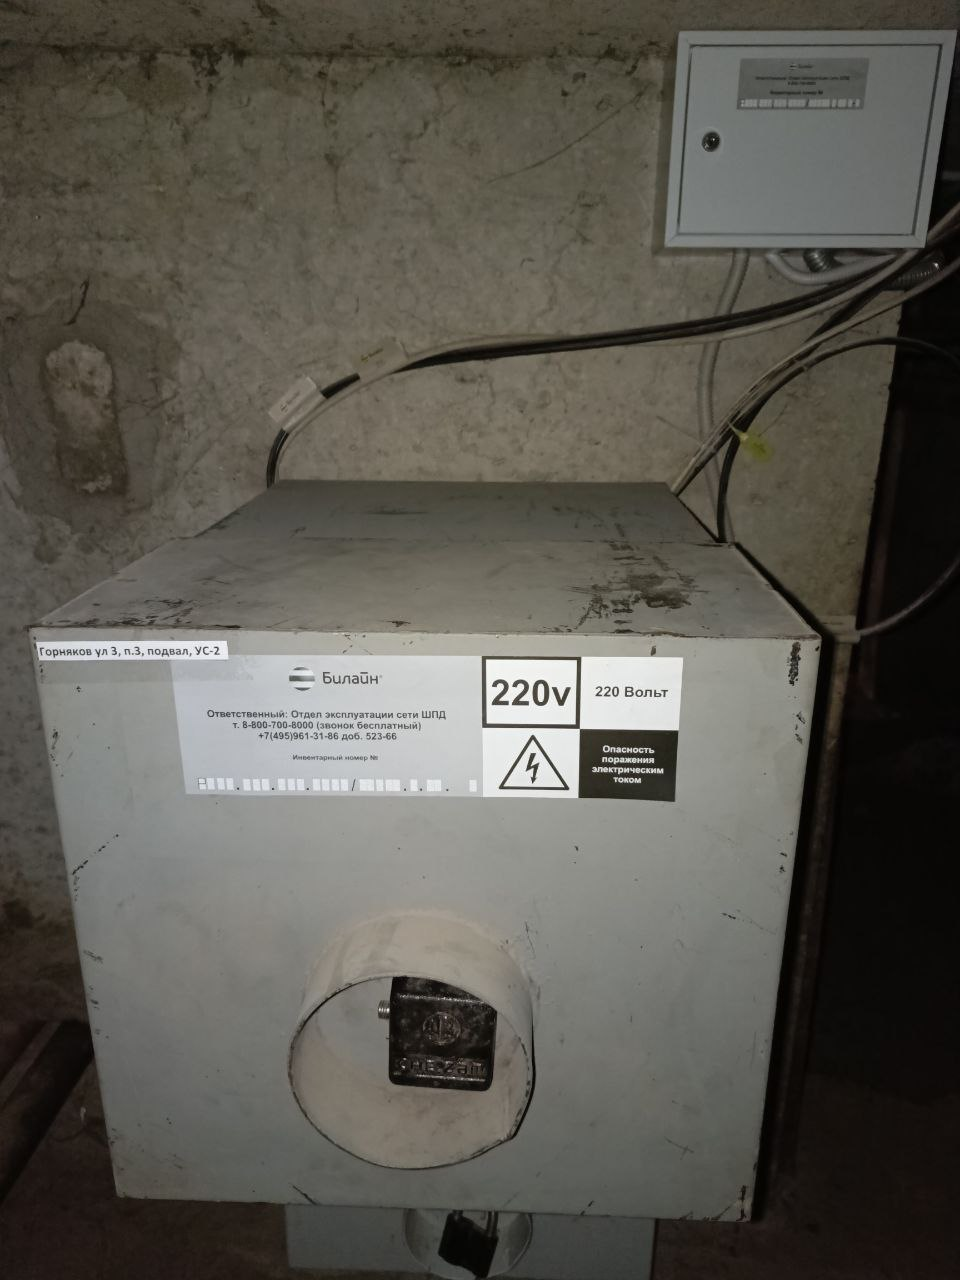shta-9: (17, 467, 835, 1230)
